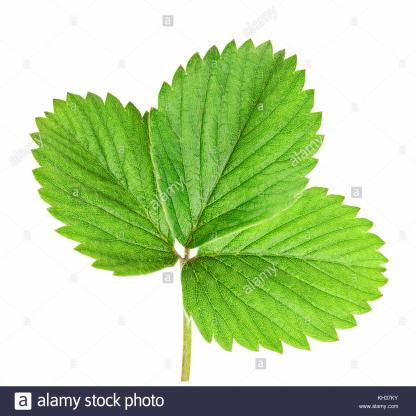Strawberry leaf: (146, 16, 324, 255), (181, 178, 394, 366), (23, 84, 180, 275)
